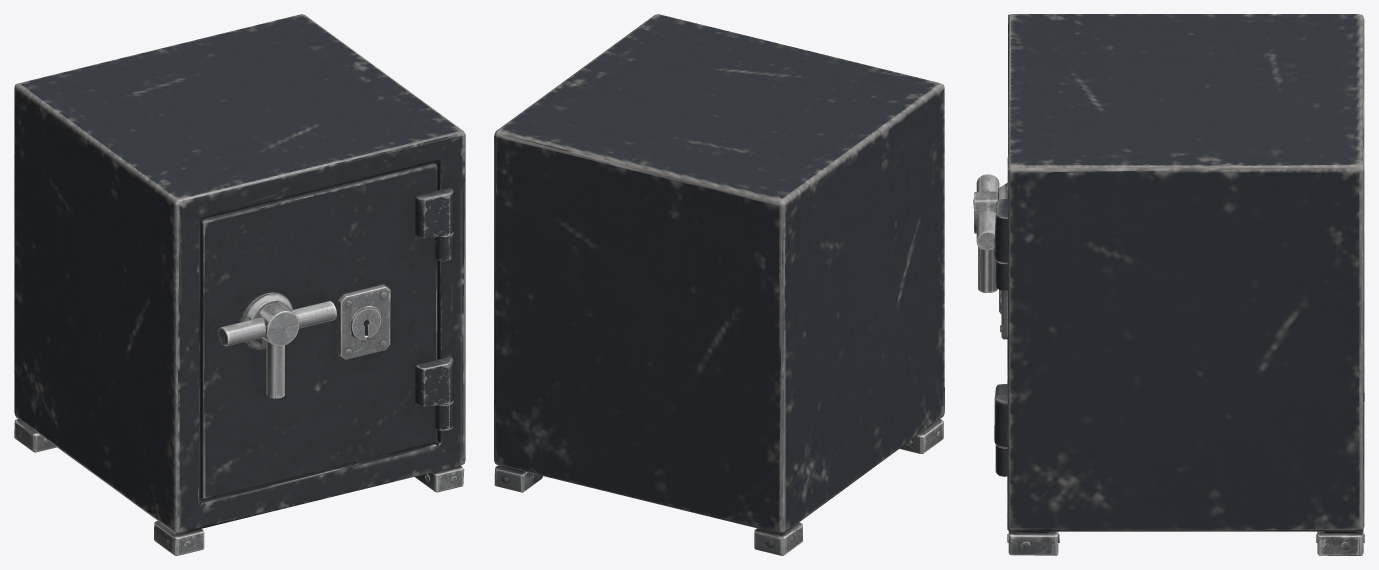
Rendered from safe_2.glb.
3 renders of one model, left to right at view 1: azimuth 30°, elevation 25°; view 2: azimuth 150°, elevation 25°; view 3: azimuth 270°, elevation 25°, orthographic. The views are drawn at different scales.
Bounding box in the file's own units: 0.8188 × 0.9526 × 0.8667.
1 material, 1 textured.
